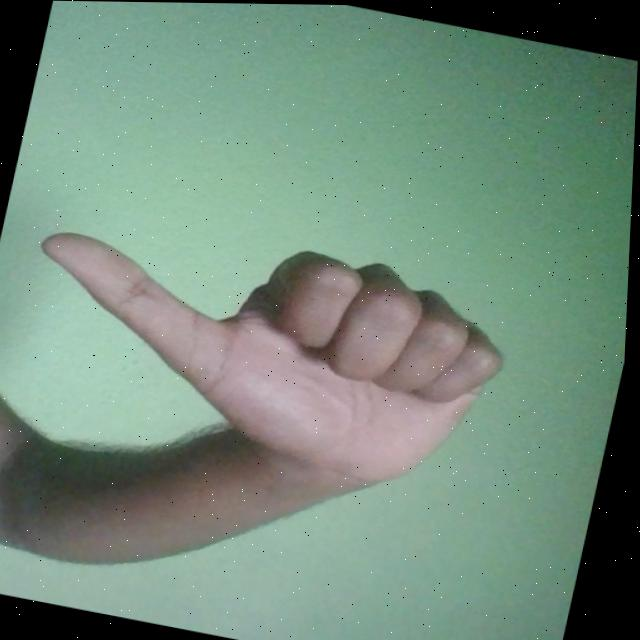Dislike: (3, 200, 527, 501)
